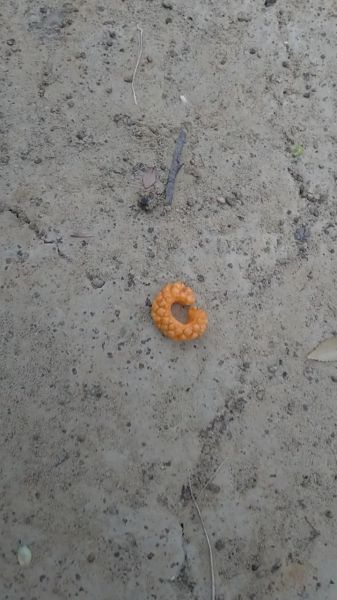eggs: (153, 283, 210, 343)
